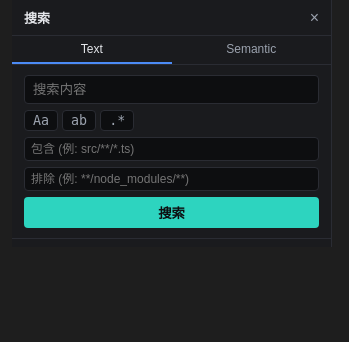
Scenario: SearchPanel › keeps semantic search on the semantic retriever path
Click the button with class "search-tab" showing "Semantic" at (251, 50), box [172,36,331,64]
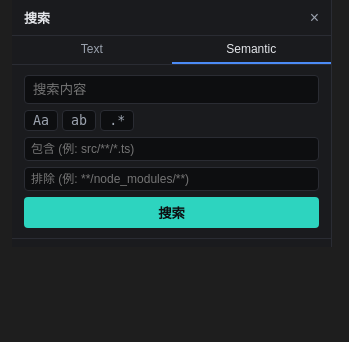
Type "semantic" into the field with class "search-input" showing "搜索内容" at (172, 90), box [24,75,319,104]
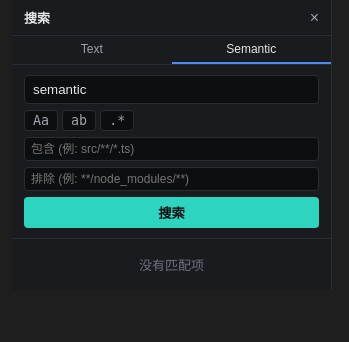
Submit the form, box [12,65,331,239]
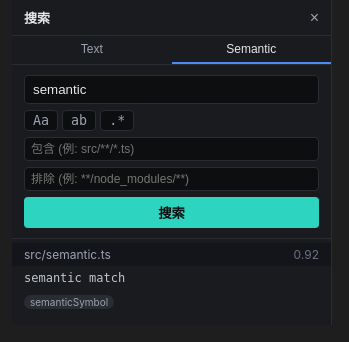
Expected: the text "src/semantic.ts" is shown, [24,247,111,262]
